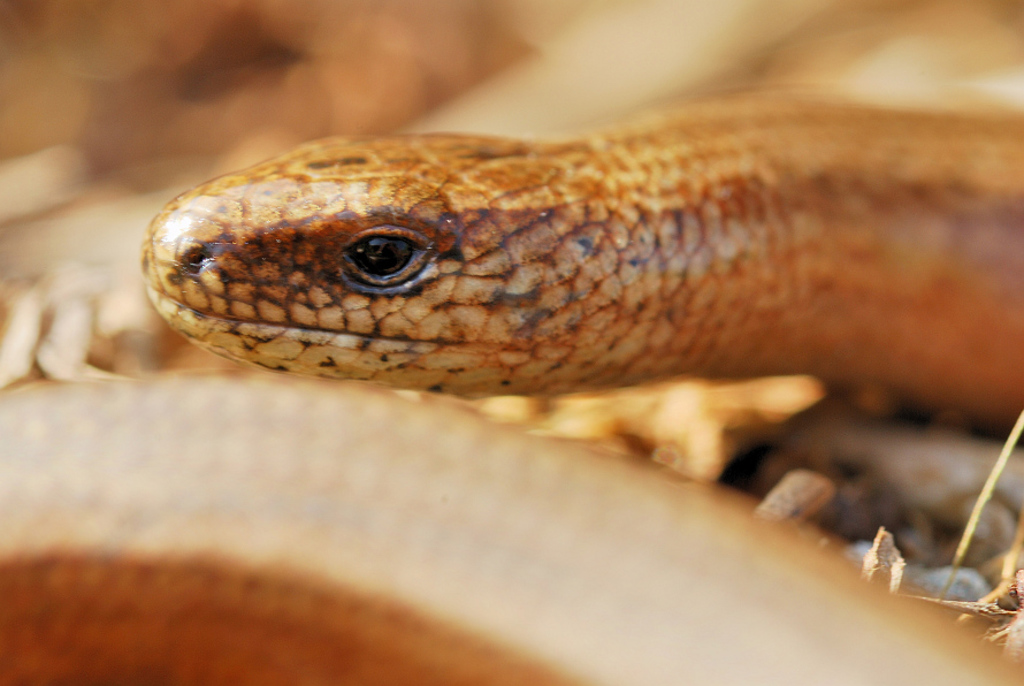person: (1, 0, 554, 385)
